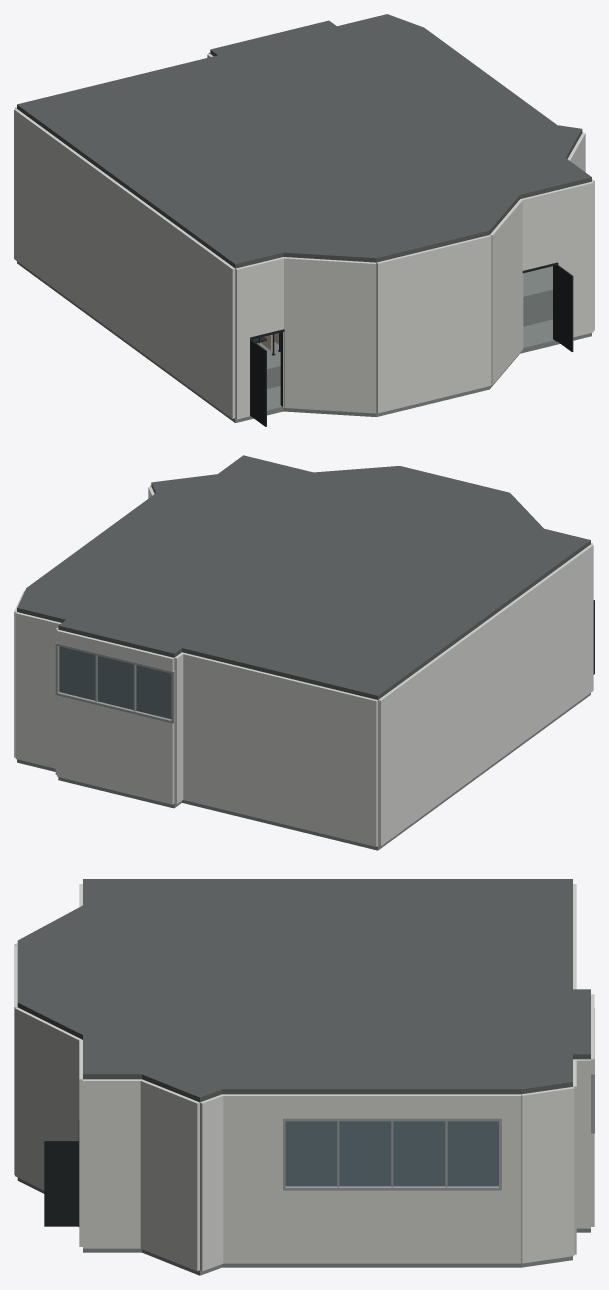
The model's file is mar-108-interior-1593d068bbd6.glb.
3 views of the same model, one above another, from view 1: azimuth 30°, elevation 25°; view 2: azimuth 150°, elevation 25°; view 3: azimuth 270°, elevation 25° (orthographic). The views are drawn at different scales.
Visible parts, largest first — view 1: mar-108; view 2: mar-108; view 3: mar-108.
Boxes of the visible parts, <box> form: mar-108: <box>14,14,594,426</box>; mar-108: <box>14,455,594,850</box>; mar-108: <box>14,879,594,1275</box>.
Bounding box in the file's own units: 12.72 × 4.78 × 14.12.
